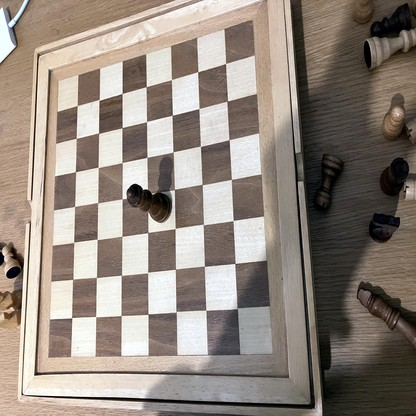king_black: (358, 287, 416, 344)
knight_black: (370, 214, 399, 243)
pawn_black: (372, 3, 410, 36)
pawn_white: (383, 105, 404, 140), (2, 245, 21, 278)
queen_black: (127, 185, 171, 222)
rock_black: (317, 155, 341, 208), (380, 159, 408, 195)
